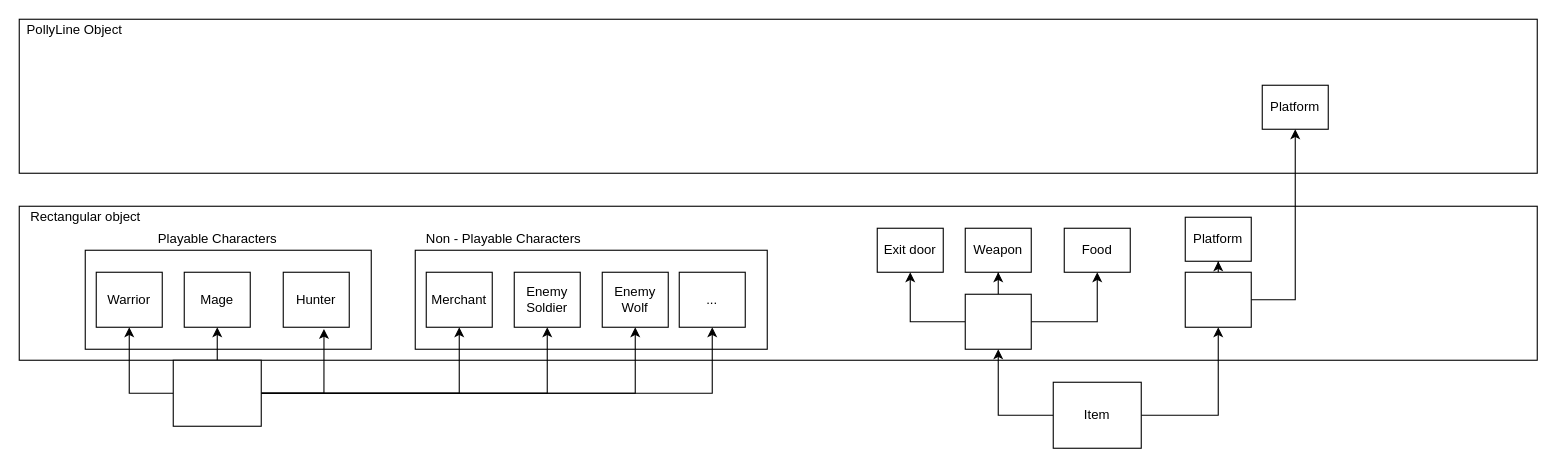
The diagram is 1557 pixels wide and 468 high, and some of its shapes have lost their labels. The centre of each missing label's shape, as x and y in pixels:
"Character" belongs at point (216, 392).
"Interacive Item" belongs at point (997, 321).
"Non-Iteractive Item" belongs at point (1217, 299).
